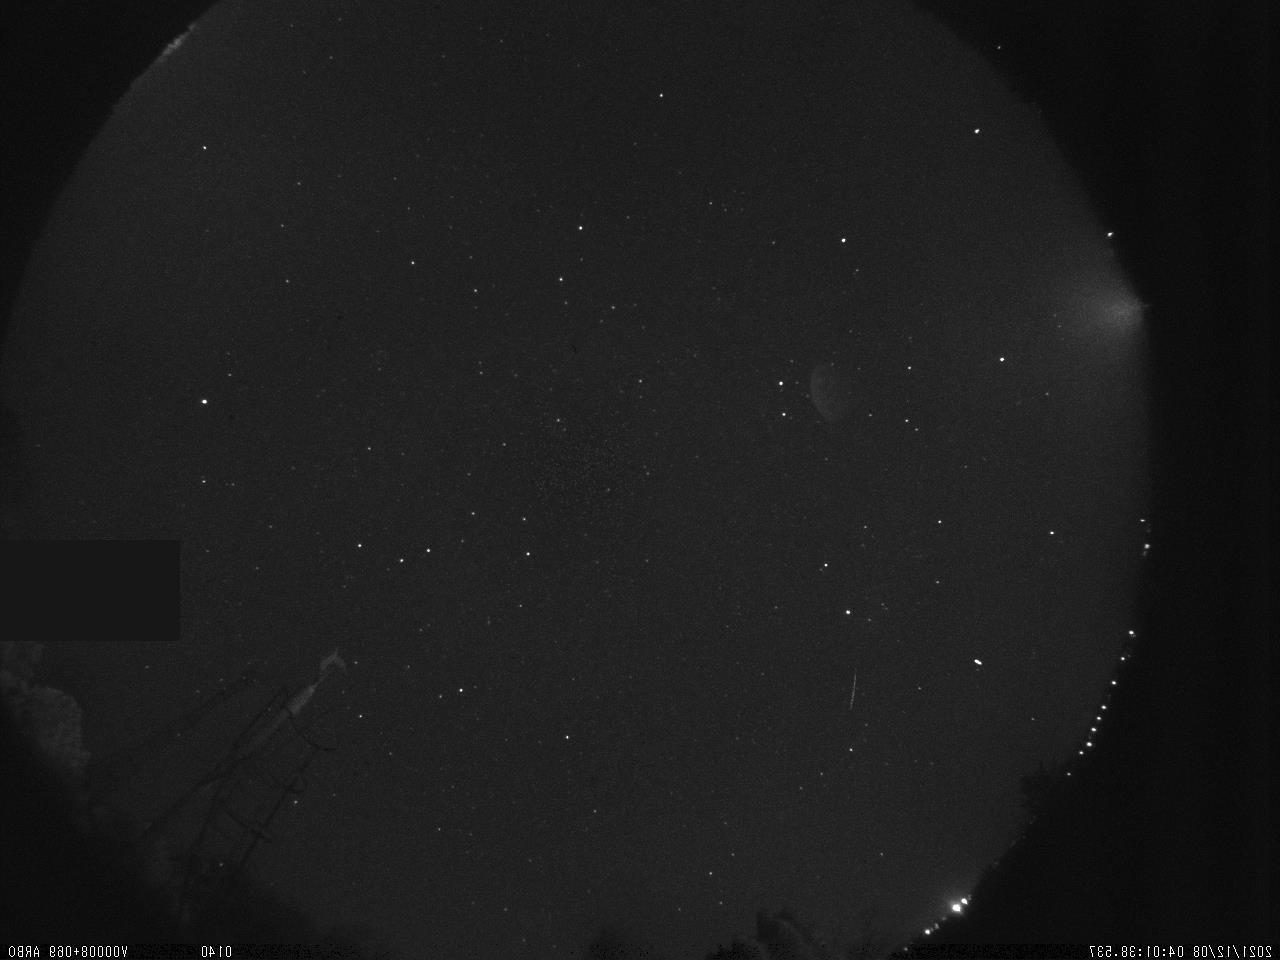meteor: (828, 663, 879, 726)
